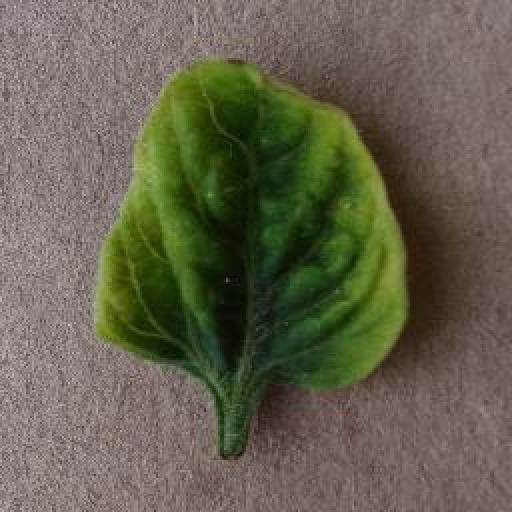Yellow Leaf Curl Virus: (92, 58, 408, 394)
